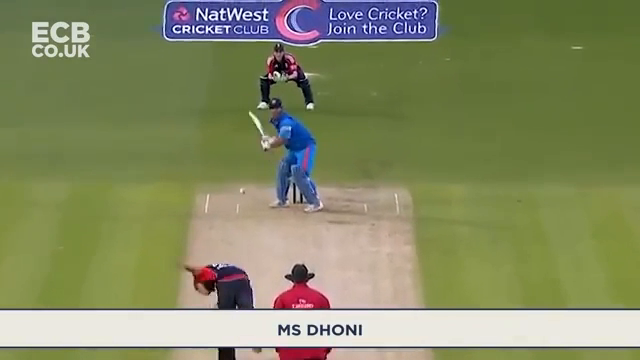Bowler: (182, 262, 252, 308)
Keeper: (258, 44, 316, 99)
batsman: (243, 100, 324, 213)
